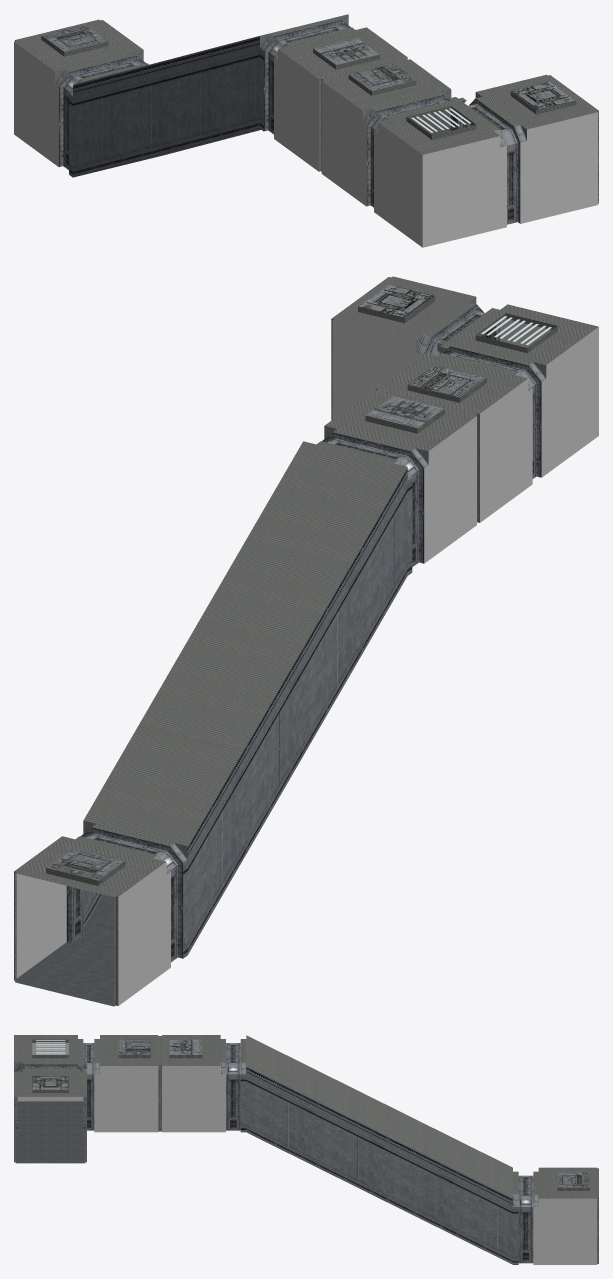
Rendered from poi_all_impl_bunker_warren_s01_r5_hall5_mesh_r5.fbx.
3 views of the same model, one above another, from view 1: azimuth 30°, elevation 25°; view 2: azimuth 150°, elevation 25°; view 3: azimuth 270°, elevation 25° (orthographic). The views are drawn at different scales.
Visible parts, largest first — view 1: mesh_node; view 2: mesh_node; view 3: mesh_node.
Part boxes in pixels (x1=…): mesh_node: x1=14, y1=14, x2=598, y2=247; mesh_node: x1=14, y1=276, x2=598, y2=1006; mesh_node: x1=14, y1=1035, x2=598, y2=1264.
Bounding box in the file's own units: 8 × 12.2 × 32.
